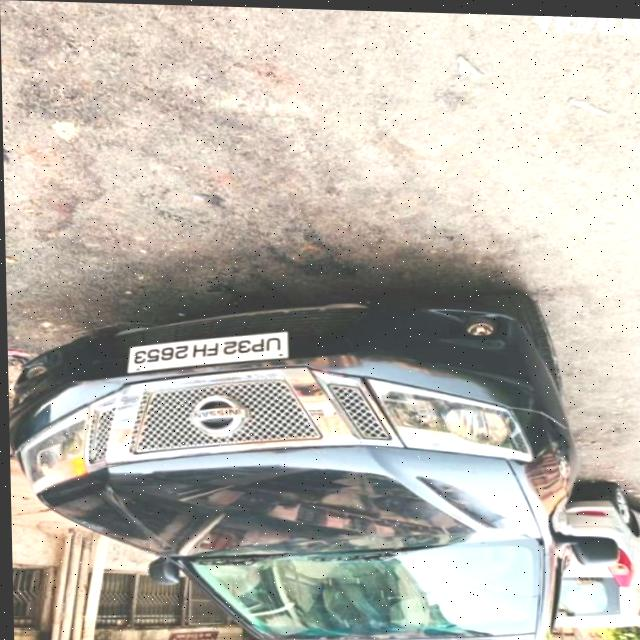plate: (124, 325, 289, 378)
